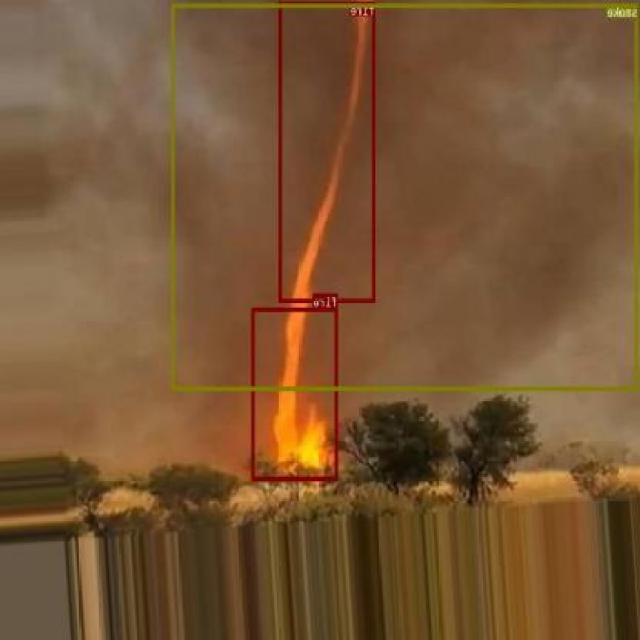Fire: (279, 2, 376, 302), (252, 306, 338, 479)
Smoke: (172, 2, 638, 390)
